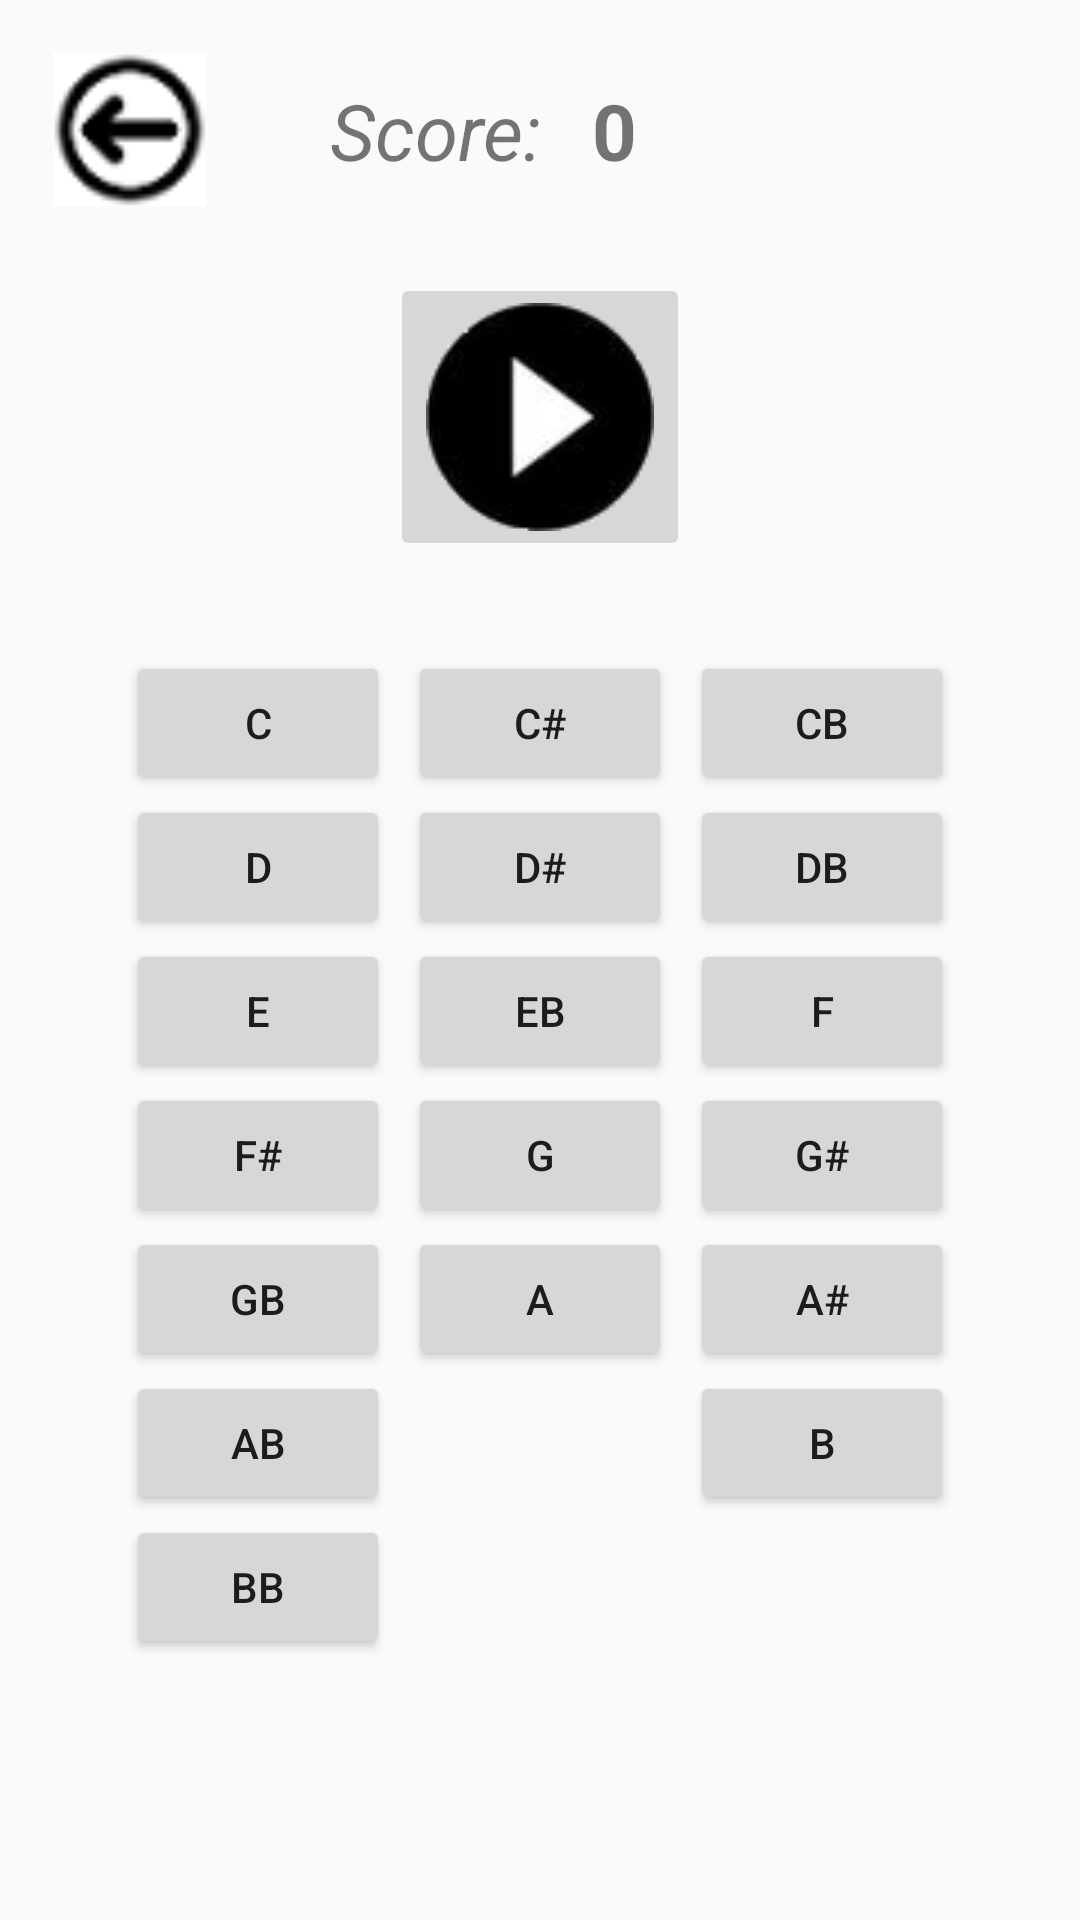

Locate icon controls on the screen. Image size 1080×1920, boxes as (x1, y1, x2, y2).
play: (402, 291, 678, 543)
